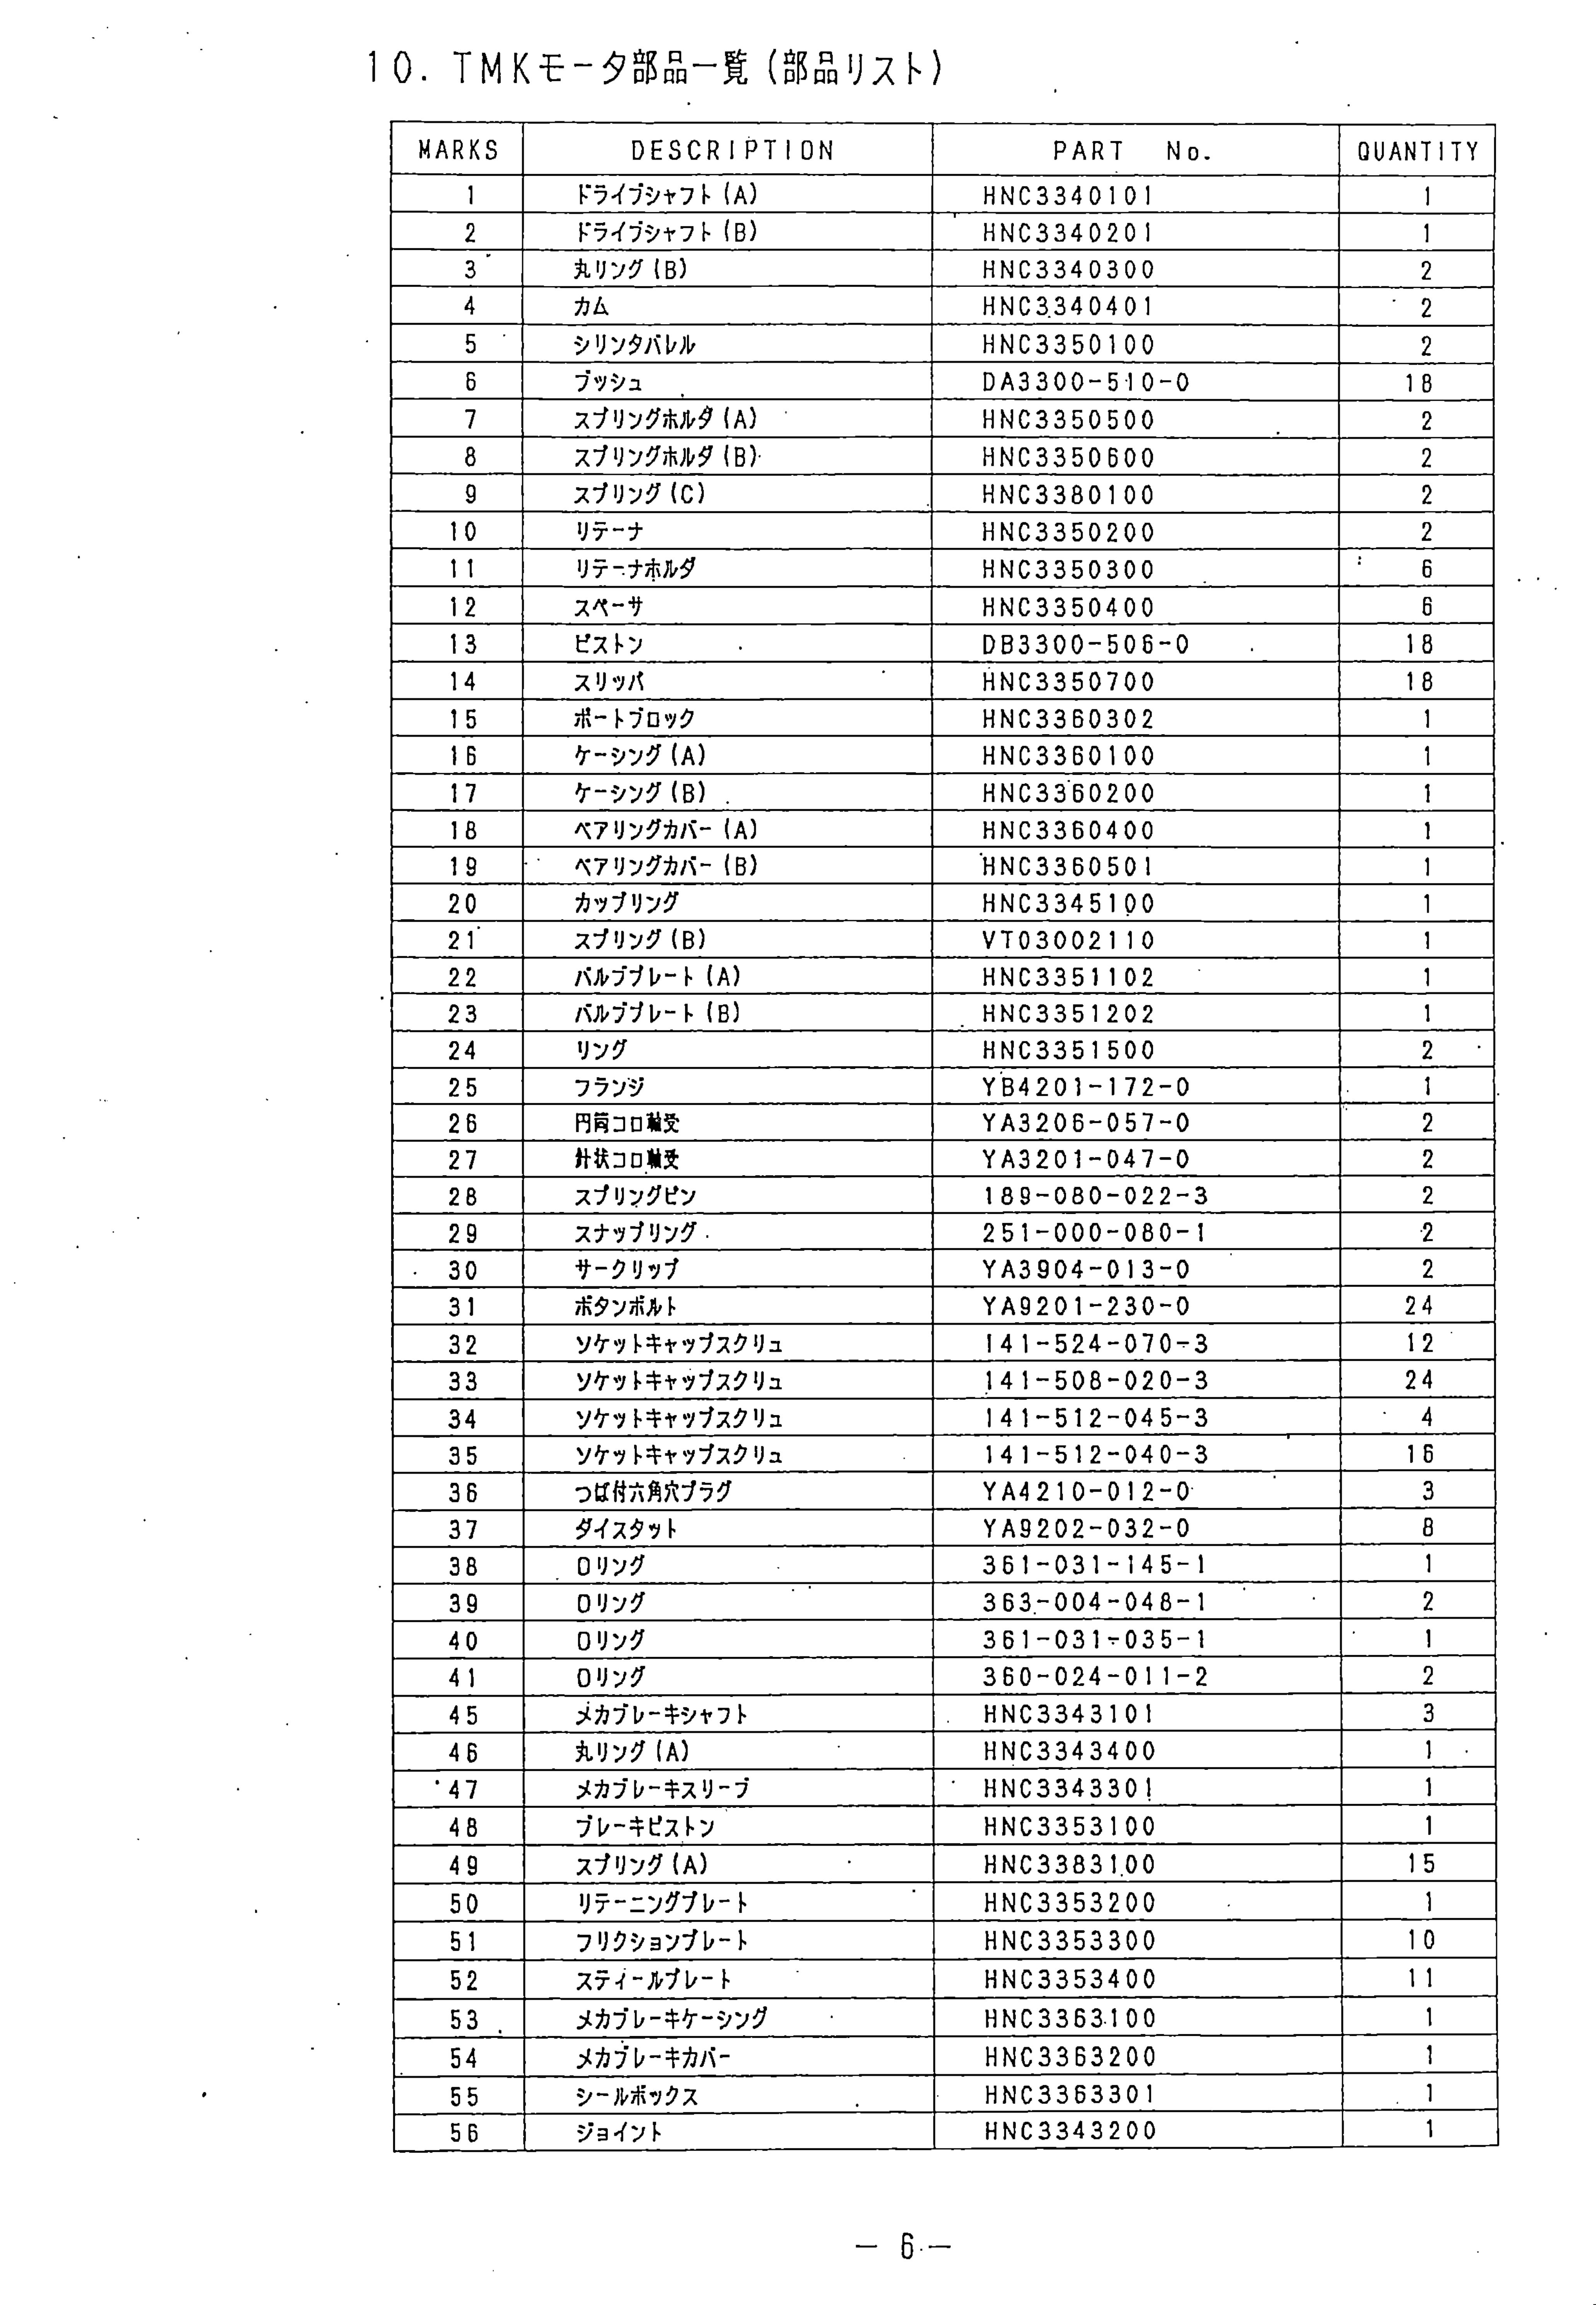Table: (366, 107, 1508, 2172)
